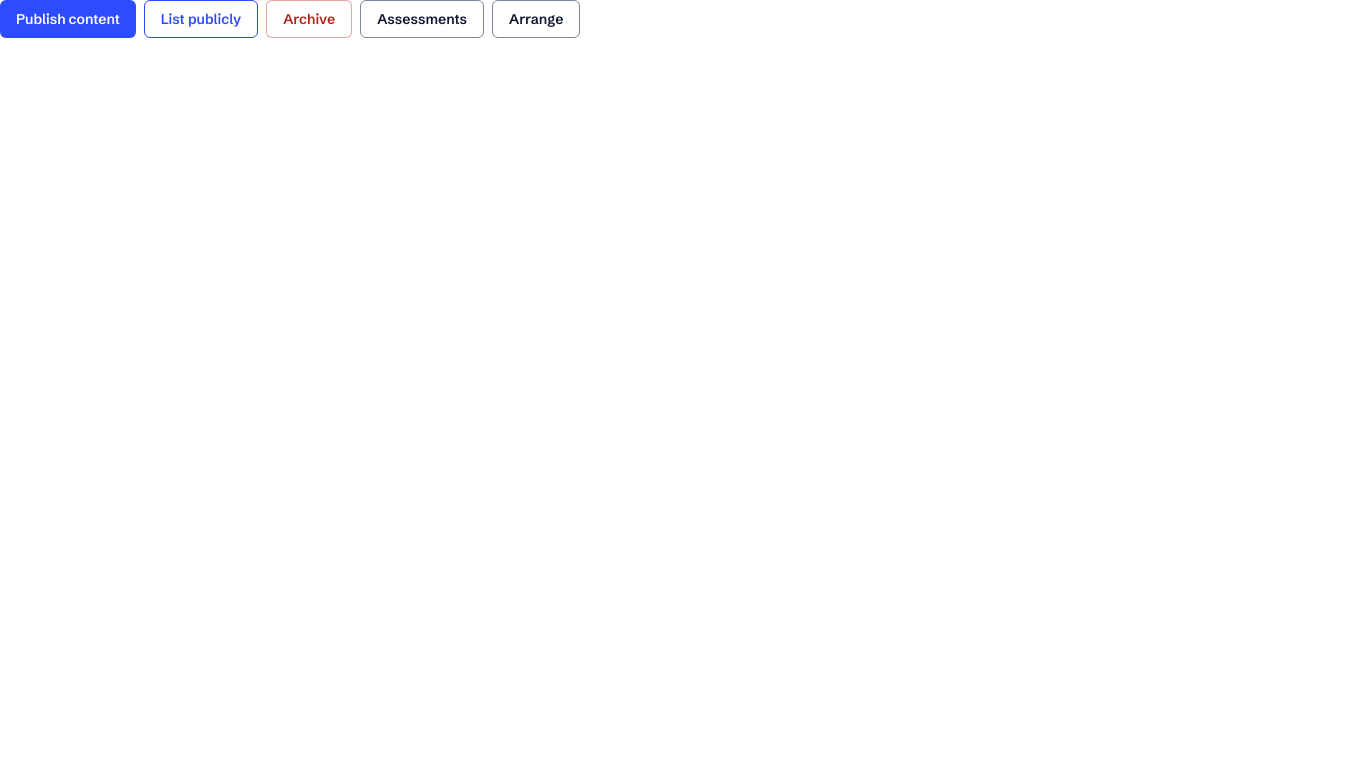
CourseDetailActions — publish transport failure › keeps the publish dialog open with a generic error on rejection, never claims success, and a retry then publishes
This screenshot has width=1366, height=768.
Click the button "Publish content".
click(68, 19)  # box [0,0,136,38]
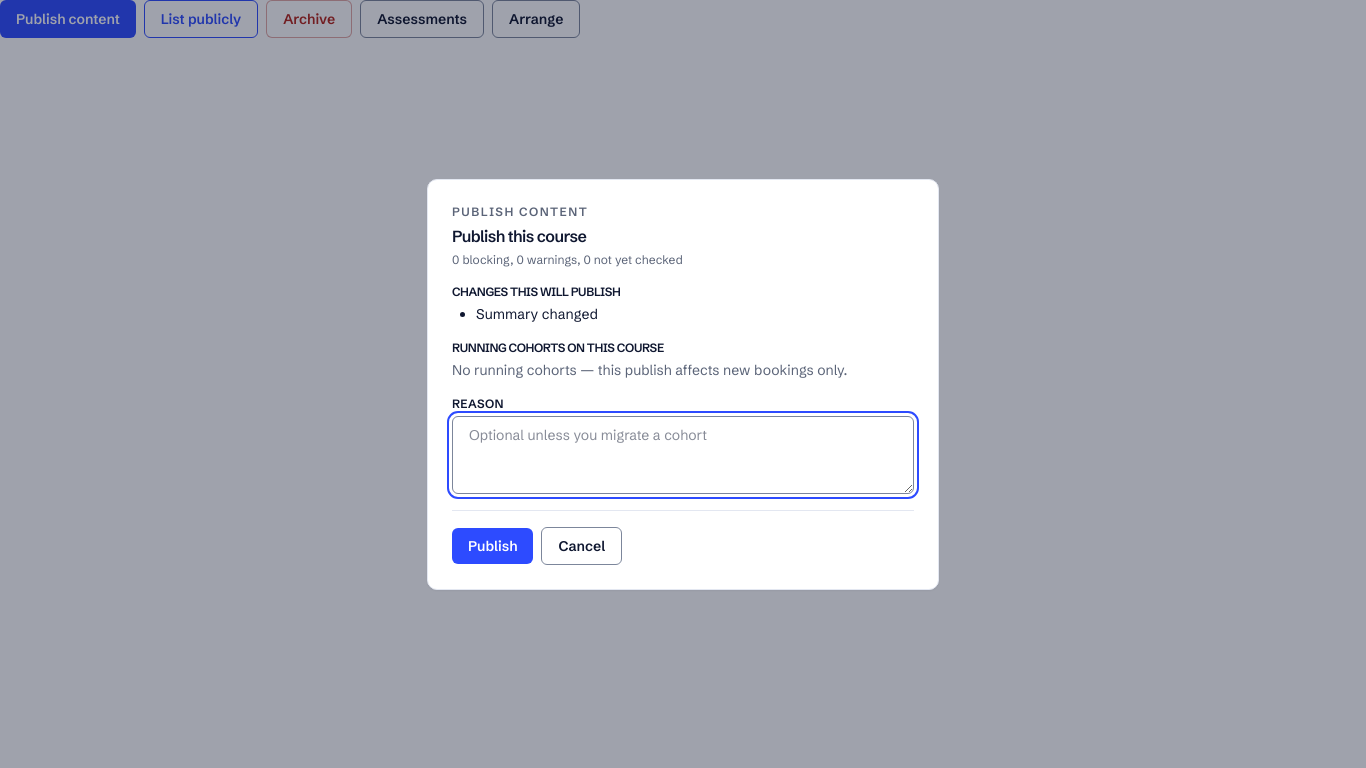
Click the button "Publish".
click(493, 546)  # box [452,528,533,564]
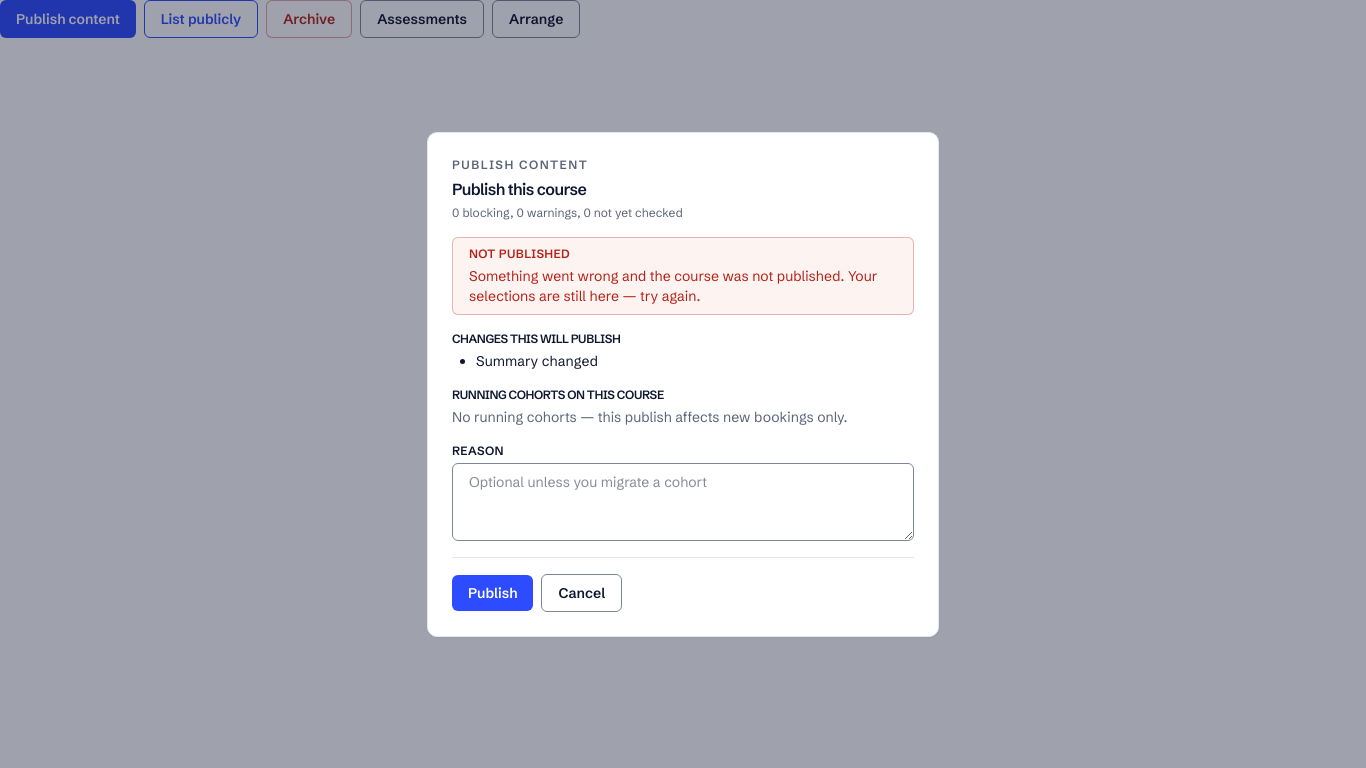
Expected: the text "Course published" is not shown
Expected: the dialog is shown, [427,132,939,636]
Expected: the button "Publish" is enabled
Click the button "Publish".
click(493, 592)  # box [452,574,533,610]
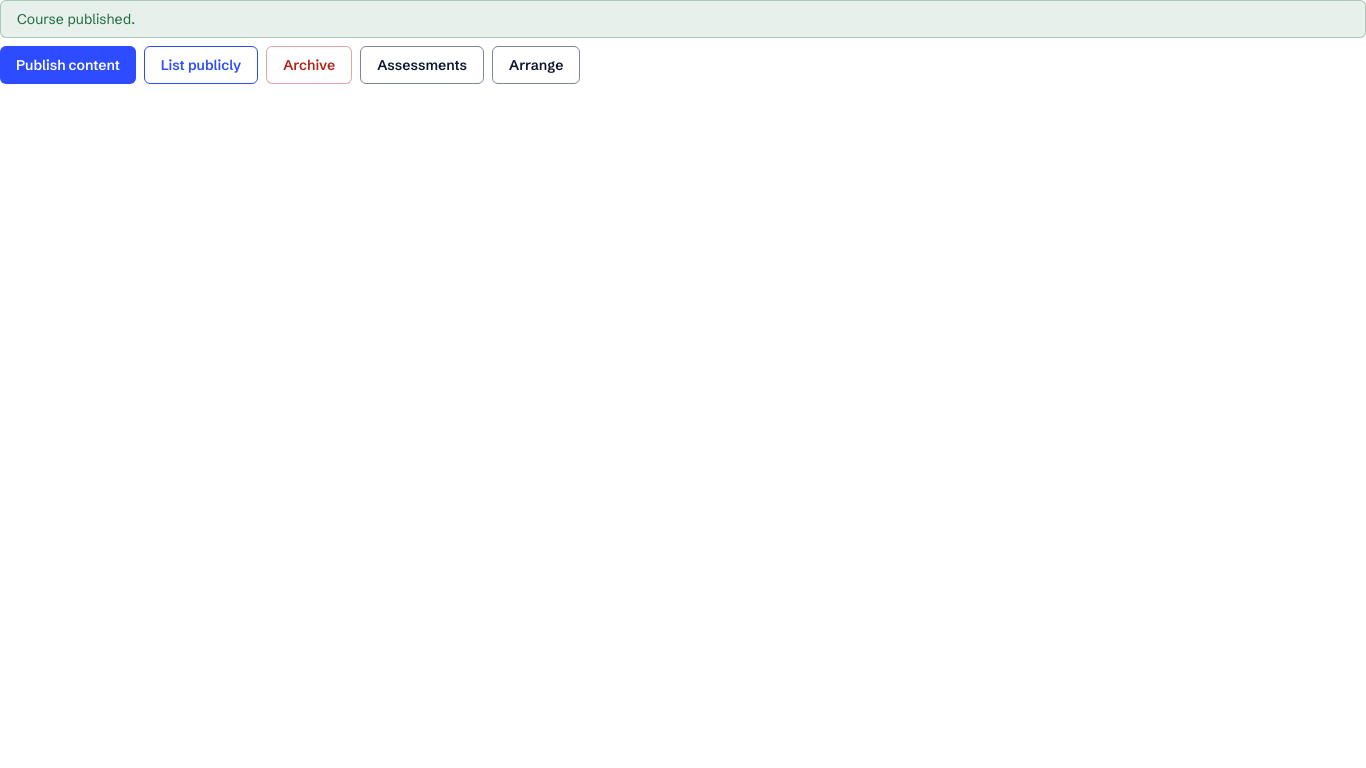
Expected: the text "Course published." is shown, [0,0,1365,38]
Expected: the dialog is gone
